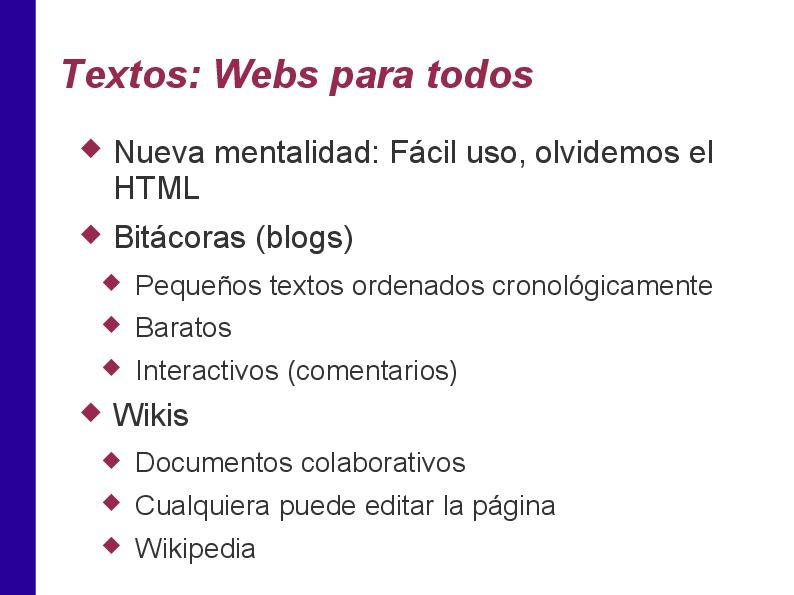paragraph: (64, 119, 751, 579)
title: (50, 45, 556, 104)
